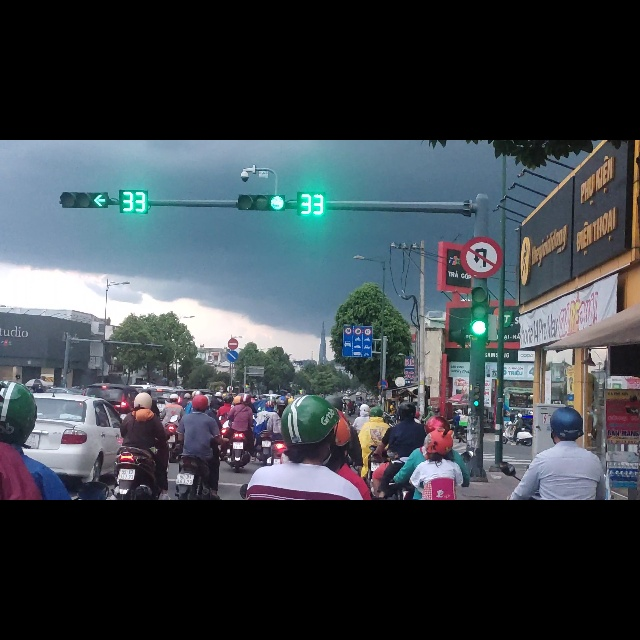bien_cam: (460, 170, 502, 246), (342, 329, 373, 387), (227, 353, 239, 373), (227, 373, 238, 394)
